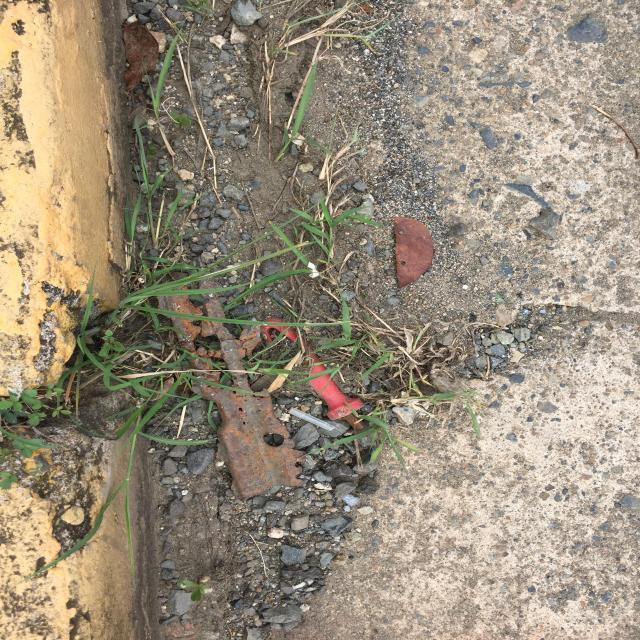litter: (374, 251, 640, 362), (422, 206, 561, 286), (543, 229, 575, 264), (548, 206, 573, 226)
